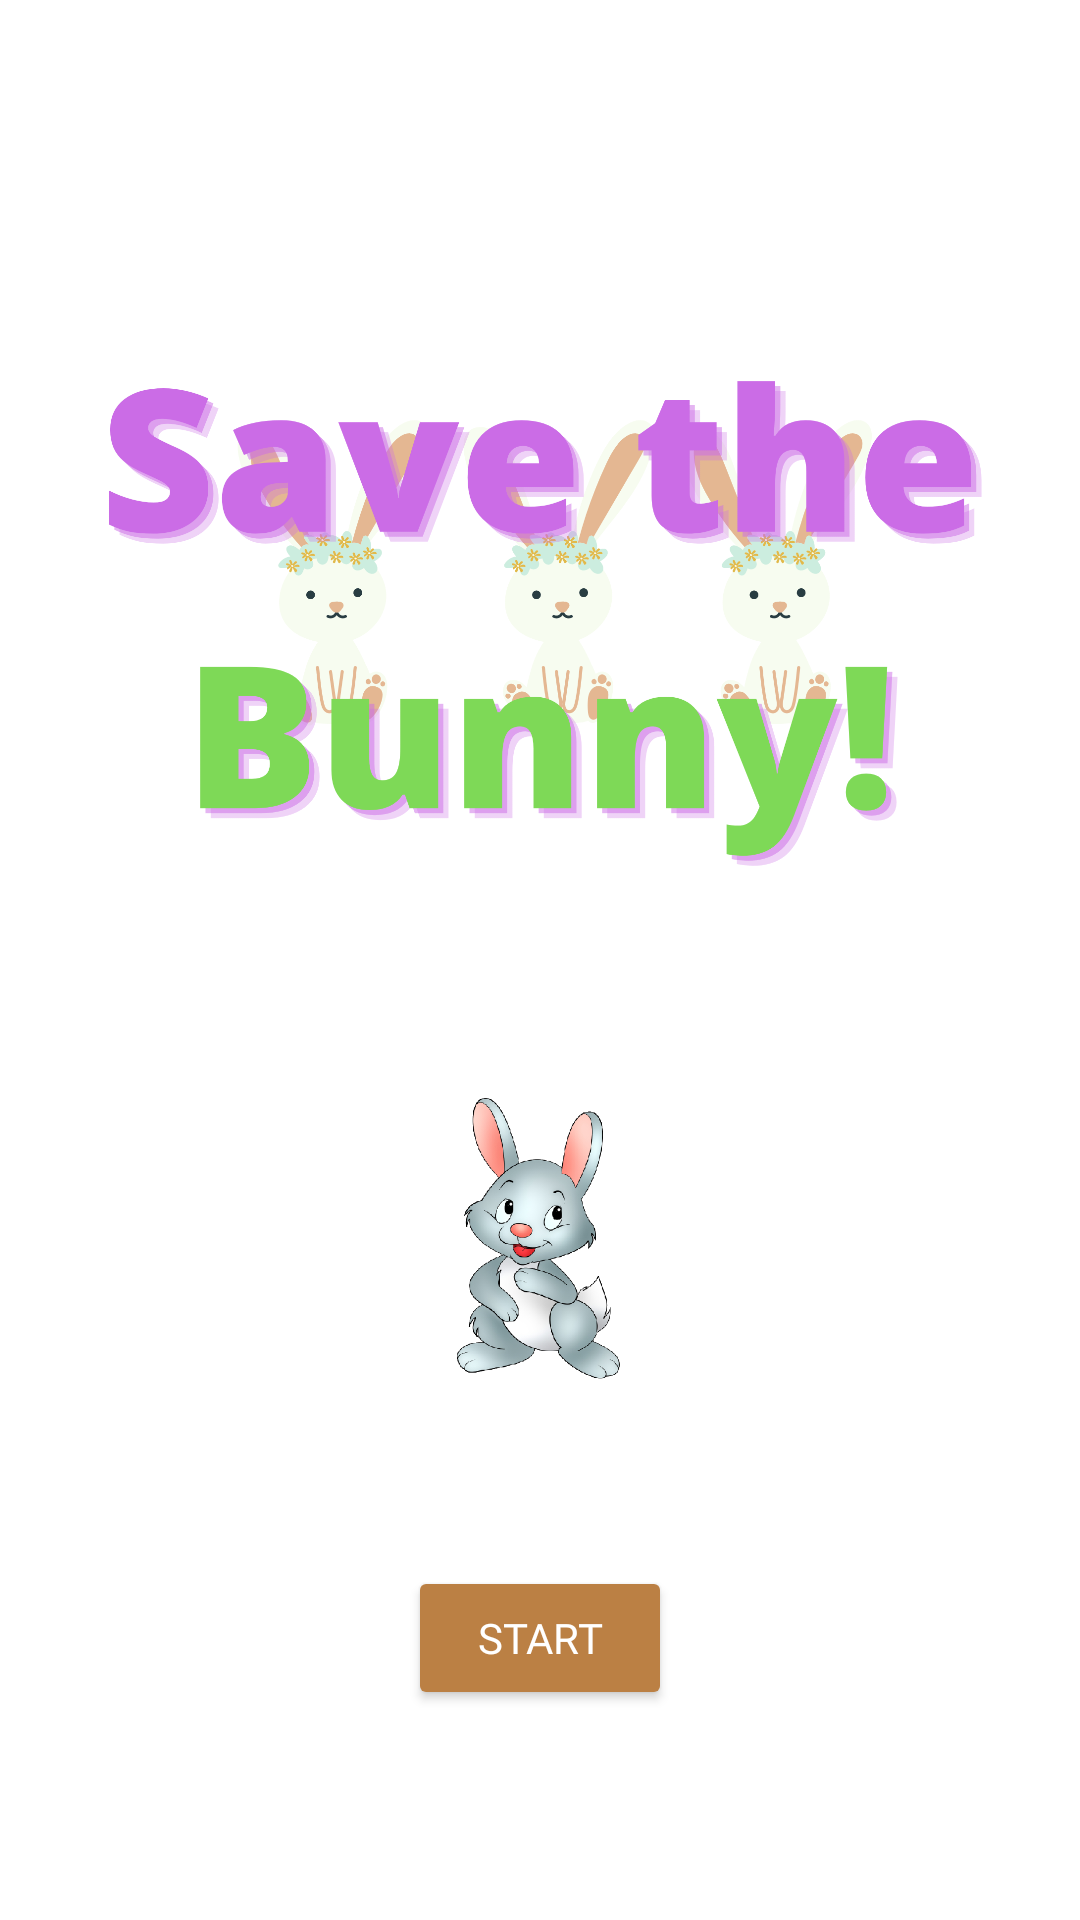

Locate icon controls on the screen. Image size 1080×1920, boxes as {"left": x1, "top": y1, "right": x2, "bottom": y2}.
bunny: {"left": 457, "top": 1098, "right": 620, "bottom": 1379}
